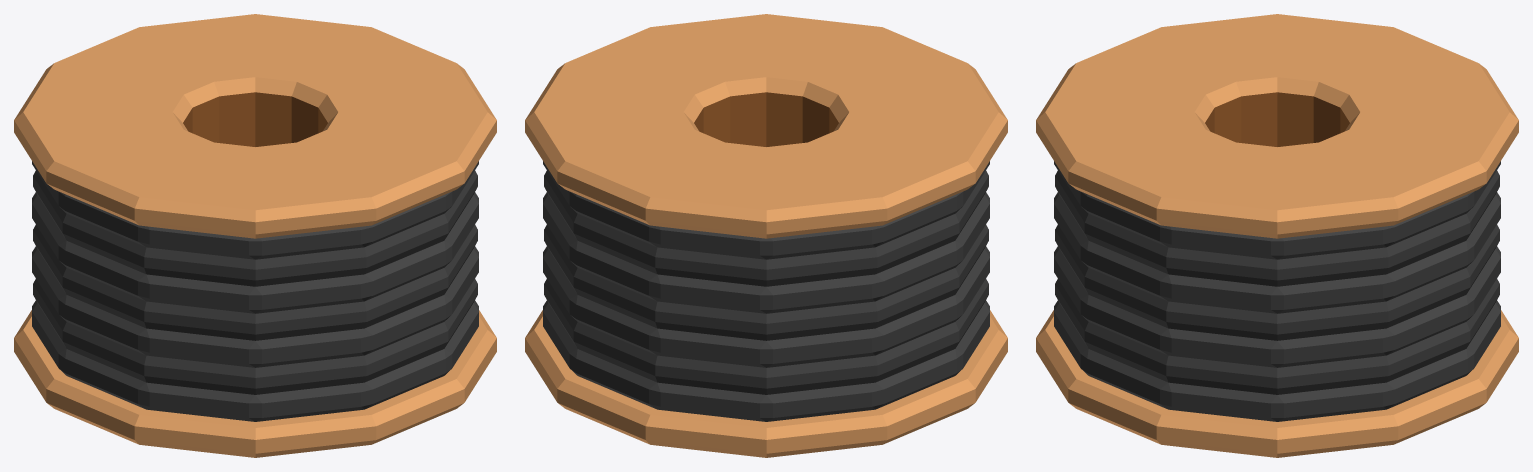
Rendered from Spool B.fbx.
3 renders of one model, left to right at view 1: azimuth 30°, elevation 25°; view 2: azimuth 150°, elevation 25°; view 3: azimuth 270°, elevation 25°, orthographic.
Visible parts, largest first — view 1: Spool B; view 2: Spool B; view 3: Spool B.
Part boxes in pixels (<box>): Spool B: <box>14,14,496,457</box>; Spool B: <box>525,14,1007,457</box>; Spool B: <box>1036,14,1518,457</box>.
Bounding box in the file's own units: 199 × 113 × 199.
